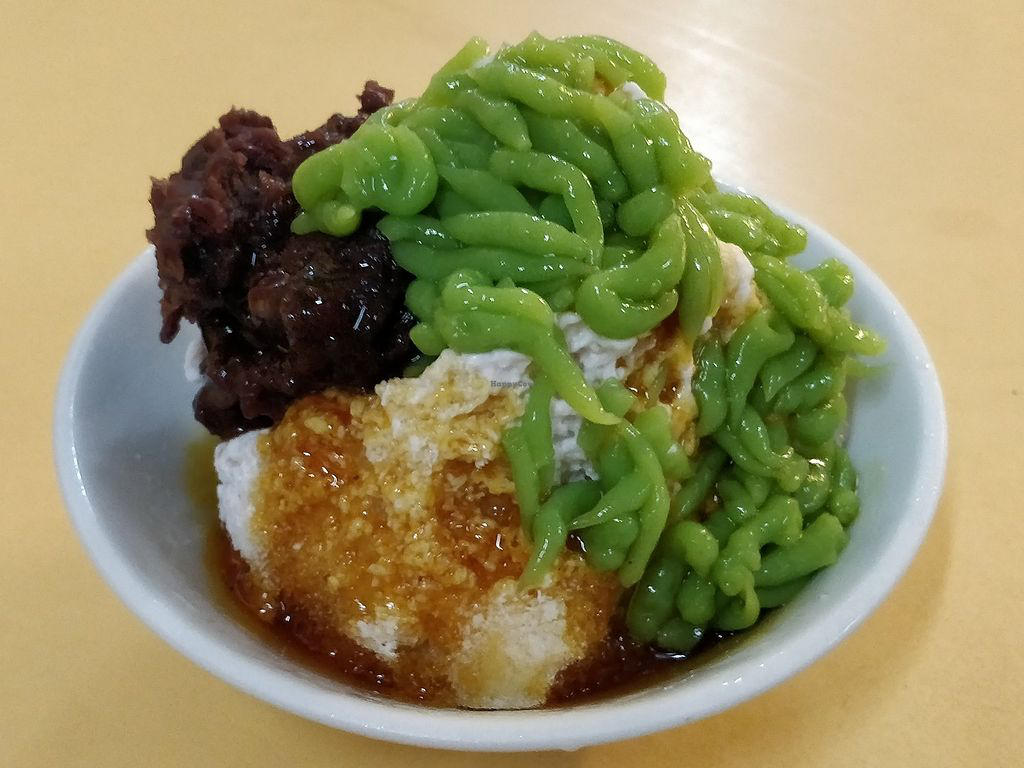Chendol: (116, 64, 920, 698)
